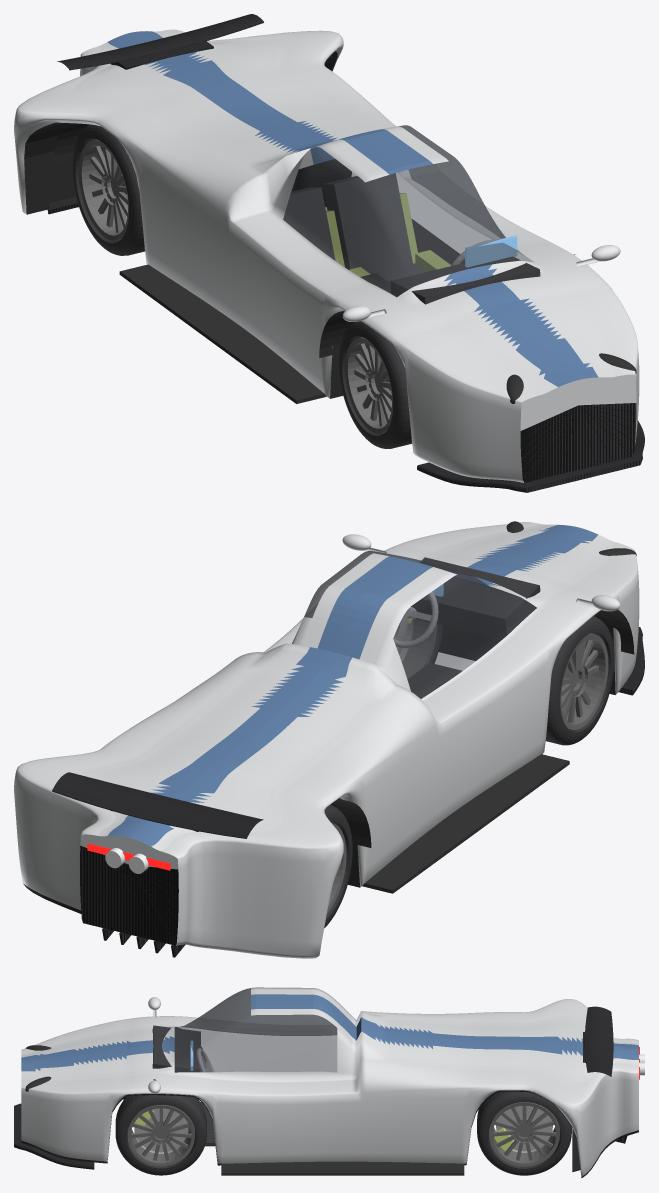
File: porsche-918-spyder.glb
3 renders of one model, top to bottom at view 1: azimuth 30°, elevation 25°; view 2: azimuth 150°, elevation 25°; view 3: azimuth 270°, elevation 25°, orthographic. The views are drawn at different scales.
Visible parts, largest first — view 1: Body_PrimaryPaint, Glass_Windows, Body_SecondaryPaint, Carbon_Exterior, Interior_Seats, WheelWells, Underbody, Rim_RR, Tire_FR, Rim_FR, Tire_RR, Interior_Dashboard (+4 smaller); view 2: Body_PrimaryPaint, Body_SecondaryPaint, Carbon_Exterior, Glass_Windows, WheelWells, Interior_Dashboard, Rim_FR, Tire_FR, Underbody, Rim_FL, Tire_RR, Interior_SteeringWheel (+2 smaller); view 3: Body_PrimaryPaint, Glass_Windows, Body_SecondaryPaint, WheelWells, Carbon_Exterior, Tire_FL, Rim_RL, Tire_RL, Rim_FL, Interior_Dashboard, Underbody, BrakeDisc_RL (+2 smaller).
Part boxes in pixels (box(x1,y1,x2,y2)): Body_PrimaryPaint: box(14, 29, 639, 482); Glass_Windows: box(283, 125, 534, 296); Body_SecondaryPaint: box(108, 31, 597, 387); Carbon_Exterior: box(47, 14, 644, 492); Interior_Seats: box(283, 173, 425, 282); WheelWells: box(54, 123, 575, 403); Underbody: box(24, 51, 343, 398); Rim_RR: box(78, 139, 128, 240); Tire_FR: box(338, 321, 412, 448); Rim_FR: box(345, 337, 392, 433); Tire_RR: box(72, 124, 144, 255); Interior_Dashboard: box(390, 256, 540, 304); Body_PrimaryPaint: box(14, 522, 639, 958); Body_SecondaryPaint: box(108, 524, 598, 846); Carbon_Exterior: box(52, 627, 644, 957); Glass_Windows: box(301, 551, 536, 698); WheelWells: box(330, 609, 634, 893); Interior_Dashboard: box(411, 557, 540, 639); Rim_FR: box(560, 633, 608, 729); Tire_FR: box(545, 616, 614, 745); Underbody: box(23, 625, 615, 913); Rim_FL: box(402, 618, 437, 678); Tire_RR: box(324, 805, 352, 927); Interior_SteeringWheel: box(393, 591, 438, 648); Body_PrimaryPaint: box(21, 987, 638, 1176); Glass_Windows: box(174, 988, 337, 1072); Body_SecondaryPaint: box(21, 994, 638, 1071); WheelWells: box(221, 1161, 464, 1175); Carbon_Exterior: box(14, 1006, 627, 1171); Tire_FL: box(115, 1095, 206, 1175); Rim_RL: box(489, 1102, 559, 1166); Tire_RL: box(477, 1091, 571, 1175); Rim_FL: box(127, 1104, 194, 1166); Interior_Dashboard: box(152, 1025, 200, 1072); Underbody: box(21, 1090, 638, 1177); BrakeDisc_RL: box(496, 1106, 552, 1152).
Size of the model in its own units: 1.95 by 1.16 by 4.74.
Materials: 17 (2 with a texture image).
